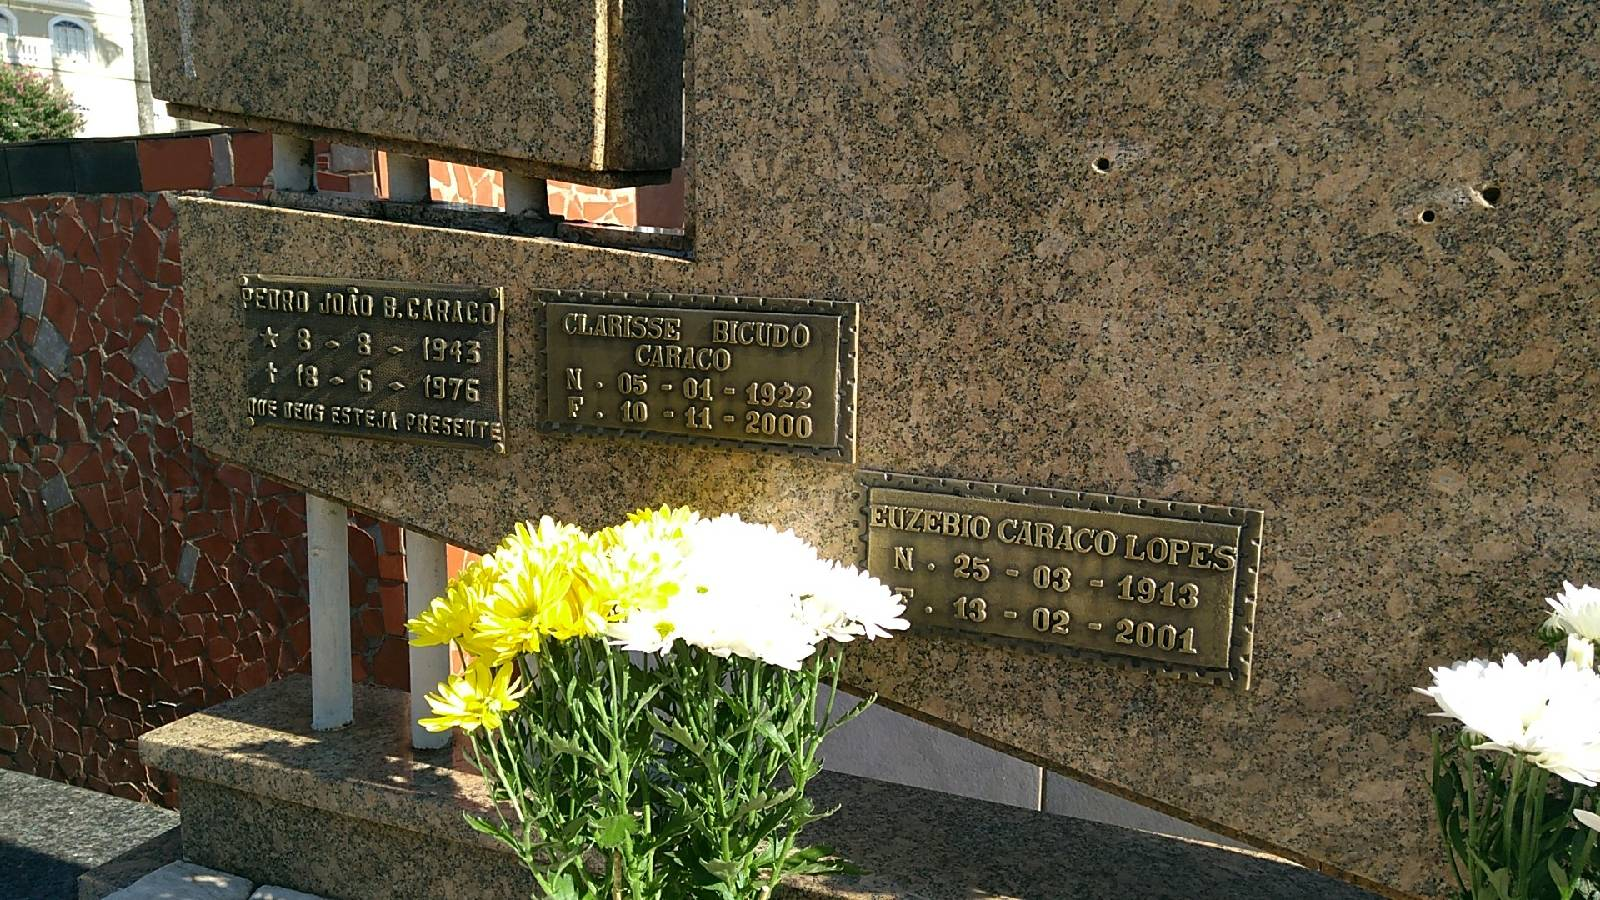upright: (144, 0, 1600, 900)
